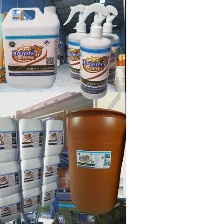cleaning_solution: (0, 5, 58, 91), (73, 3, 109, 101), (89, 0, 120, 87), (61, 1, 91, 82), (12, 117, 45, 161), (14, 156, 42, 192), (0, 116, 21, 164), (40, 118, 65, 156), (0, 158, 22, 198), (0, 190, 24, 224), (37, 153, 61, 184), (18, 184, 42, 214), (38, 180, 59, 208)
